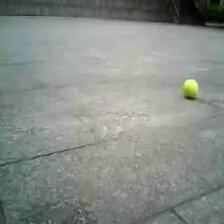tennis: (183, 79, 197, 96)
